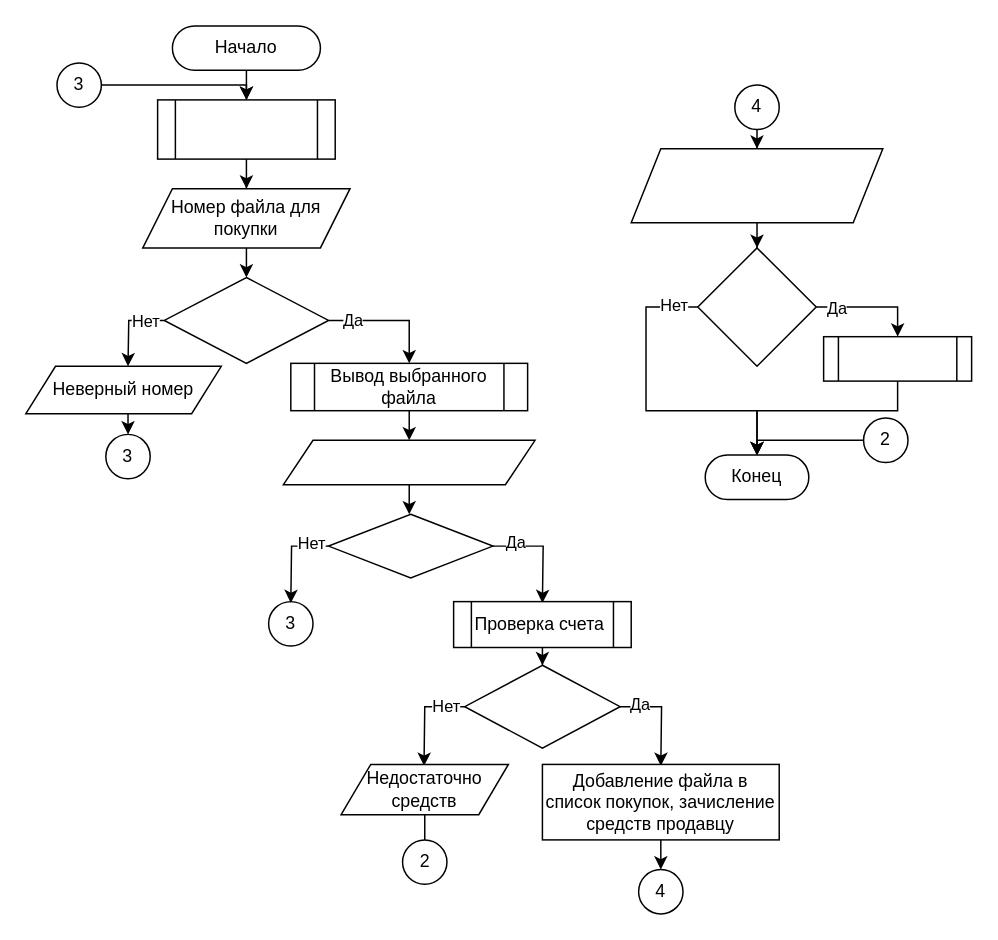
Image size: 998x940. Some labels were removed from this diagram. The shapes that lost their labels are listed below. From the top down, each one's box as (x1, y1, x2, y2) in pixels, then its label:
(156, 98, 335, 159): Вывод файлов в таблице
(630, 147, 883, 223): Предложение сохранить чек в файл
(163, 276, 329, 363): Корректный номер?
(696, 246, 816, 366): Сохранить в файл
(822, 335, 972, 381): Запись чека в файл
(282, 439, 535, 485): Запрос подтверждения покупки
(327, 513, 493, 578): Подтверждено?
(463, 664, 620, 748): Достаточно средств?
